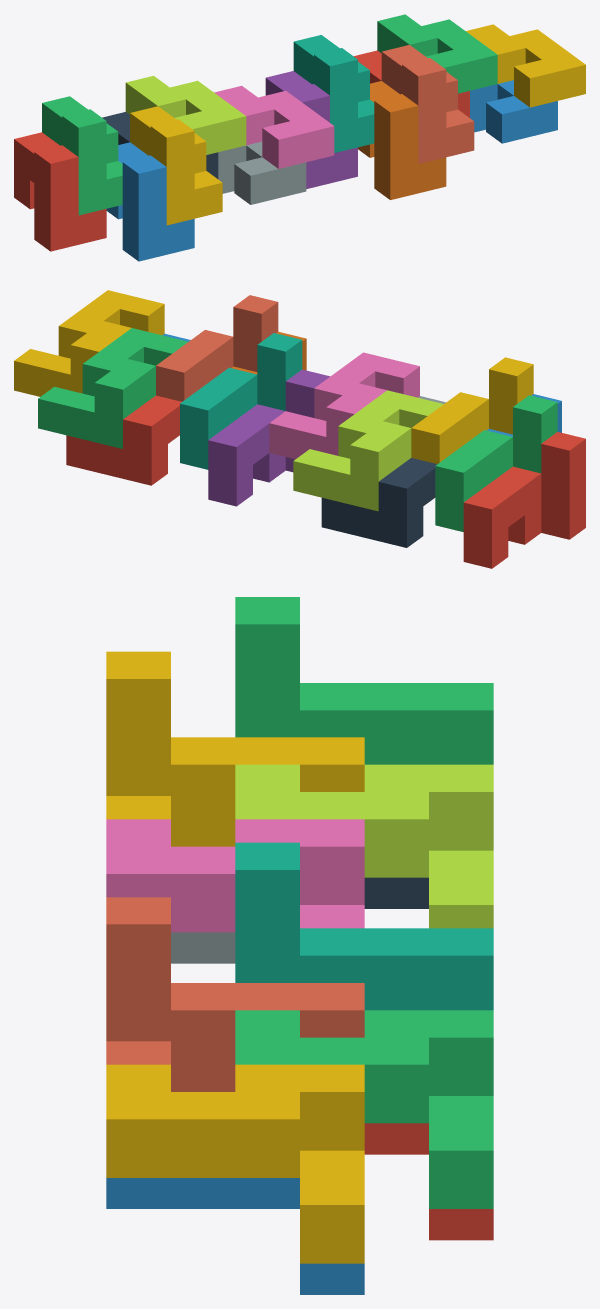
File: tiling.obj
The picture shows the model from 3 angles, top to bottom: view 1: azimuth 30°, elevation 25°; view 2: azimuth 150°, elevation 25°; view 3: azimuth 270°, elevation 25°; orthographic projection. The views are drawn at different scales.
Parts seen in each view (by area): view 1: copy_1_domain_1, copy_1_domain_4, copy_1_domain_8, copy_1_domain_2, copy_1_domain_6, copy_1_domain_3, copy_2_domain_4, copy_2_domain_8, copy_1_domain_7, copy_2_domain_3, copy_2_domain_7, copy_2_domain_2 (+4 smaller); view 2: copy_1_domain_1, copy_2_domain_3, copy_2_domain_7, copy_1_domain_7, copy_1_domain_3, copy_2_domain_4, copy_2_domain_8, copy_1_domain_5, copy_1_domain_8, copy_1_domain_4, copy_2_domain_1, copy_2_domain_5; view 3: copy_2_domain_8, copy_2_domain_7, copy_2_domain_3, copy_1_domain_4, copy_1_domain_7, copy_1_domain_8, copy_1_domain_3, copy_2_domain_4, copy_2_domain_6, copy_2_domain_5, copy_2_domain_2, copy_2_domain_1.
Boxes of the visible parts, box(x1,y1,x2,y2) form: copy_1_domain_1: box(14, 132, 106, 251); copy_1_domain_4: box(130, 106, 222, 225); copy_1_domain_8: box(381, 45, 474, 163); copy_1_domain_2: box(106, 142, 194, 261); copy_1_domain_6: box(358, 81, 446, 199); copy_1_domain_3: box(42, 96, 122, 215); copy_2_domain_4: box(214, 85, 334, 168); copy_2_domain_8: box(466, 24, 585, 107); copy_1_domain_7: box(293, 35, 374, 152); copy_2_domain_3: box(125, 75, 246, 154); copy_2_domain_7: box(377, 14, 497, 93); copy_2_domain_2: box(218, 141, 306, 204); copy_1_domain_1: box(463, 432, 585, 568); copy_2_domain_3: box(293, 390, 443, 511); copy_2_domain_7: box(38, 328, 188, 448); copy_1_domain_7: box(180, 333, 302, 469); copy_1_domain_3: box(435, 395, 557, 531); copy_2_domain_4: box(269, 352, 419, 459); copy_2_domain_8: box(14, 290, 164, 396); copy_1_domain_5: box(208, 369, 329, 506); copy_1_domain_8: box(156, 295, 278, 401); copy_1_domain_4: box(411, 357, 533, 463); copy_2_domain_1: box(321, 458, 437, 547); copy_2_domain_5: box(66, 395, 181, 485); copy_2_domain_8: box(106, 1064, 364, 1263); copy_2_domain_7: box(235, 1010, 493, 1208); copy_2_domain_3: box(235, 764, 493, 928); copy_1_domain_4: box(106, 651, 364, 846); copy_1_domain_7: box(235, 842, 493, 1010); copy_1_domain_8: box(106, 897, 364, 1091); copy_1_domain_3: box(235, 597, 493, 764); copy_2_domain_4: box(106, 819, 364, 932); copy_2_domain_6: box(106, 1178, 364, 1294); copy_2_domain_5: box(364, 1123, 493, 1240); copy_2_domain_2: box(171, 932, 235, 963); copy_2_domain_1: box(364, 877, 428, 908).
Size of the model in its own units: 19 by 4 by 6.
